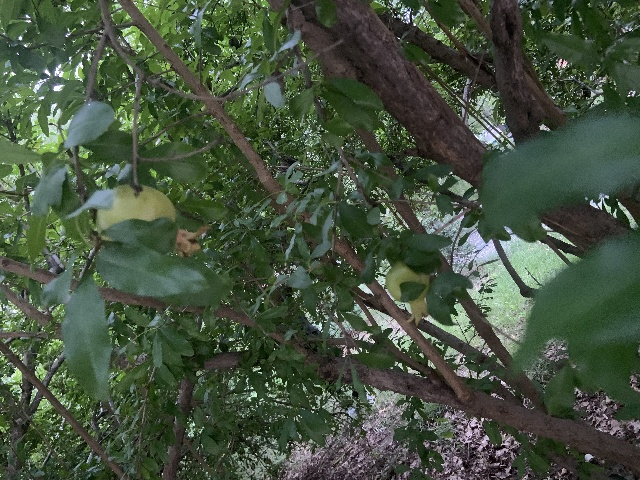mid-growth: (92, 184, 208, 255), (385, 260, 433, 326)
